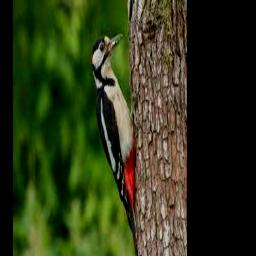Woodpecker: (91, 34, 139, 256)
